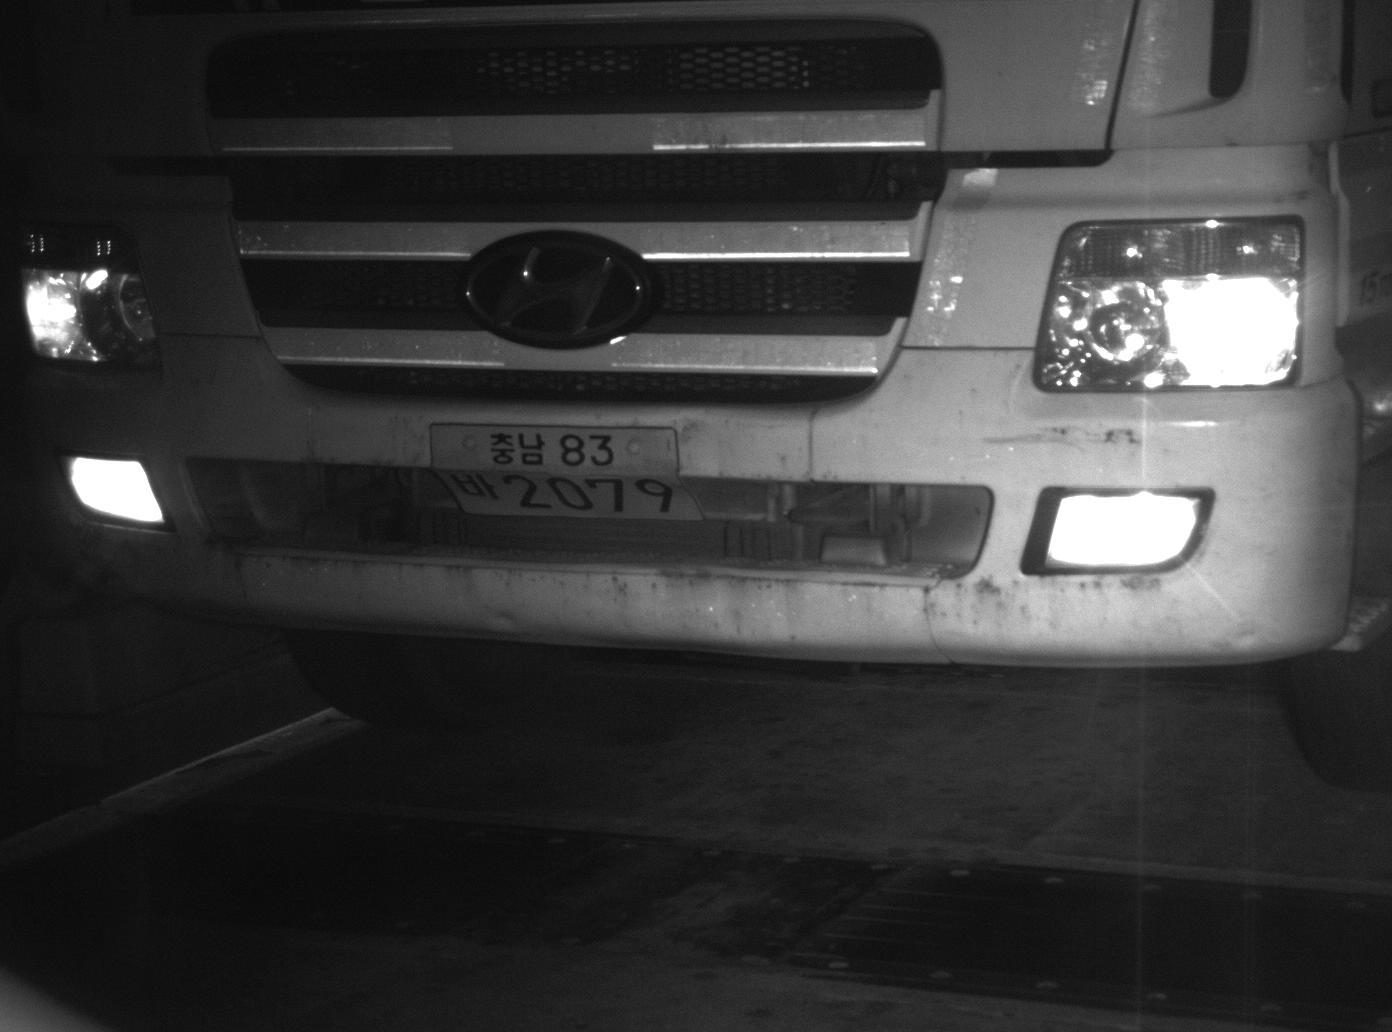car: (1, 1, 1389, 795)
plate: (426, 420, 705, 526)
